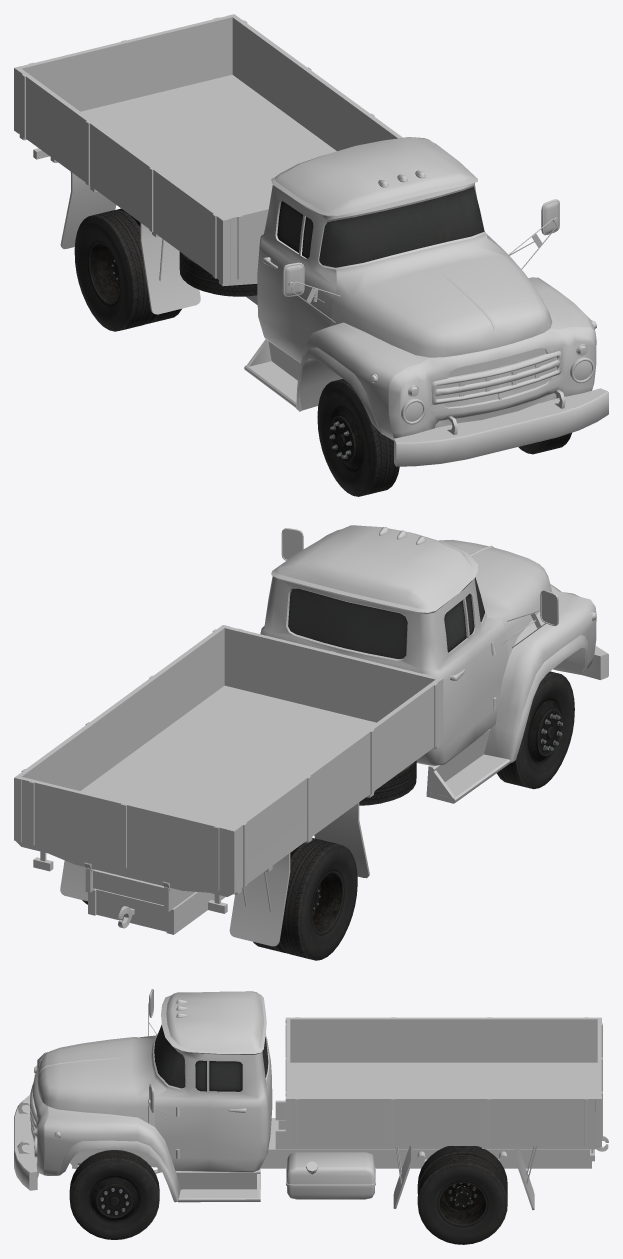
Rendered from soviet-truck.fbx.
3 views of the same model, one above another, from view 1: azimuth 30°, elevation 25°; view 2: azimuth 150°, elevation 25°; view 3: azimuth 270°, elevation 25° (orthographic). The views are drawn at different scales.
Parts seen in each view (by area): view 1: Cabin_Cabin_0, CargoBed_CargoBed_0, Glass_Glass_0, RearWheel.001_Wheels_0, FrontWheel.001_Wheels_0, SpareTire_Wheels_0; view 2: CargoBed_CargoBed_0, Cabin_Cabin_0, RearWheel.001_Wheels_0, Glass_Glass_0, FrontWheel.001_Wheels_0, Frame_Frame_0, SpareTire_Wheels_0; view 3: CargoBed_CargoBed_0, Cabin_Cabin_0, Frame_Frame_0, RearWheel_Wheels_0, FrontWheel_Wheels_0, Glass_Glass_0.
Part boxes in pixels (box(x1,y1,x2,y2)): Cabin_Cabin_0: box(244, 137, 608, 466); CargoBed_CargoBed_0: box(14, 14, 402, 314); Glass_Glass_0: box(277, 187, 484, 267); RearWheel.001_Wheels_0: box(74, 208, 181, 331); FrontWheel.001_Wheels_0: box(317, 379, 399, 496); SpareTire_Wheels_0: box(179, 251, 257, 296); CargoBed_CargoBed_0: box(14, 625, 443, 946); Cabin_Cabin_0: box(260, 525, 608, 803); RearWheel.001_Wheels_0: box(253, 838, 357, 960); Glass_Glass_0: box(288, 577, 484, 658); FrontWheel.001_Wheels_0: box(496, 671, 574, 789); Frame_Frame_0: box(88, 888, 225, 934); SpareTire_Wheels_0: box(359, 760, 416, 805); CargoBed_CargoBed_0: box(275, 1017, 602, 1209); Cabin_Cabin_0: box(14, 989, 272, 1202); Frame_Frame_0: box(70, 1118, 608, 1199); RearWheel_Wheels_0: box(417, 1146, 507, 1244); FrontWheel_Wheels_0: box(69, 1150, 159, 1239); Glass_Glass_0: box(154, 1024, 268, 1091).
Bounding box in the file's own units: 325 × 293 × 799.
